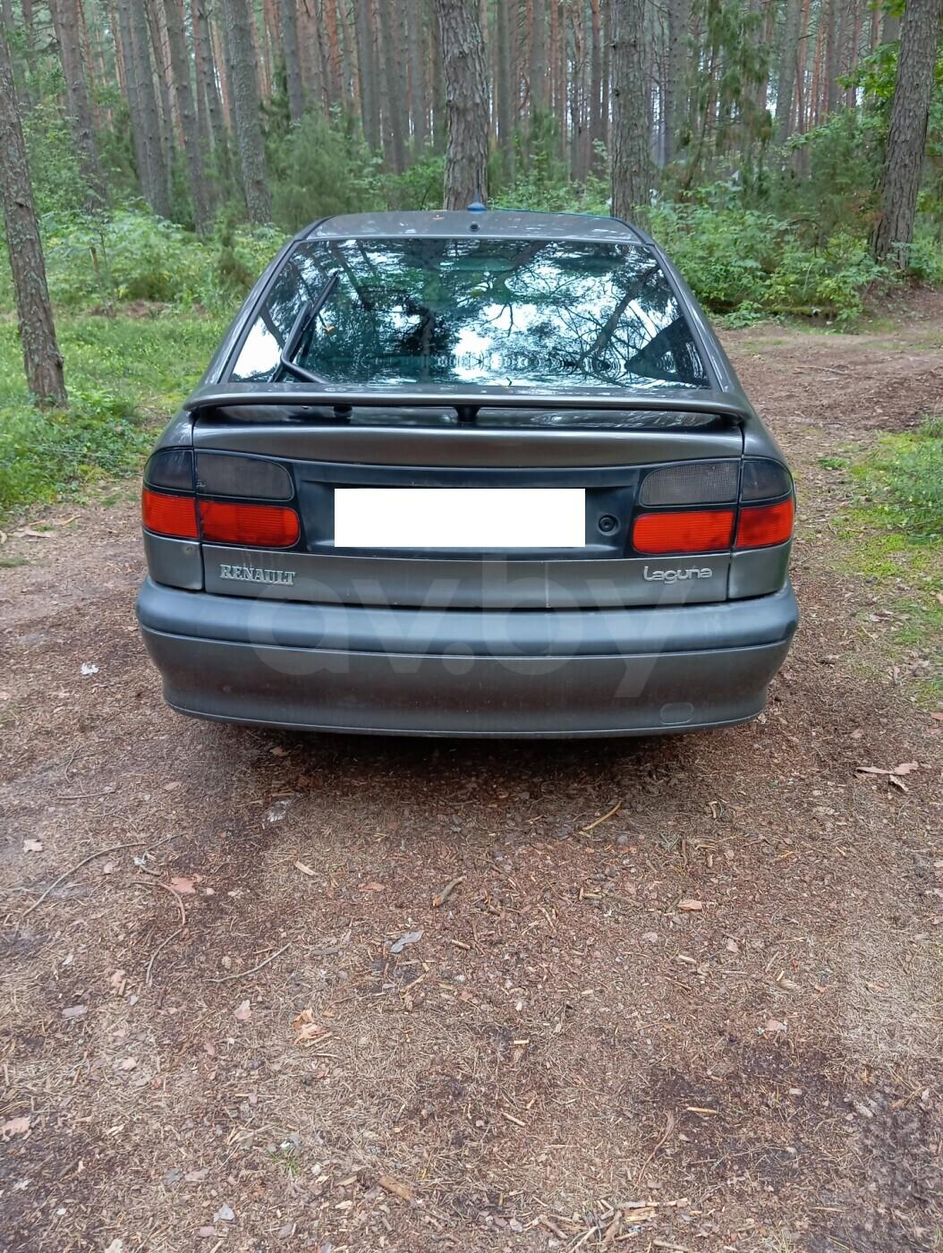Lahuna_1993-1999: (125, 202, 807, 775)
